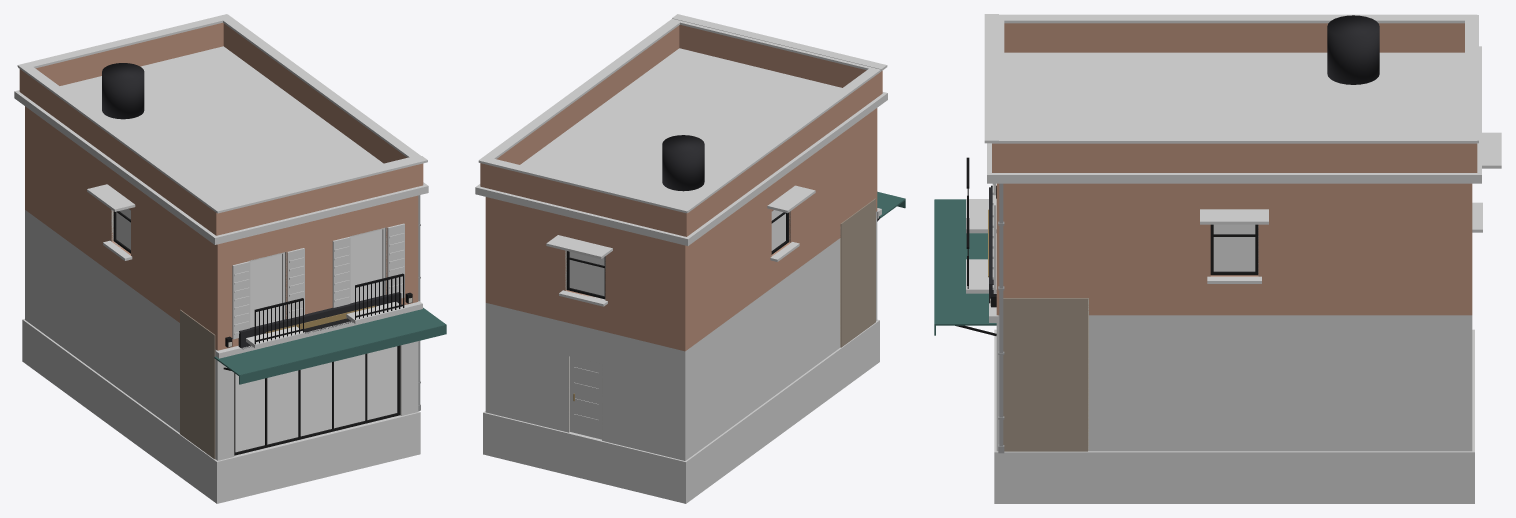
Rendered from shop_house_6x10_2.glb.
3 views of the same model, side by side, from view 1: azimuth 30°, elevation 25°; view 2: azimuth 150°, elevation 25°; view 3: azimuth 270°, elevation 25° (orthographic). The views are drawn at different scales.
Parts seen in each view (by area): view 1: shop_house_6x10_2; view 2: shop_house_6x10_2; view 3: shop_house_6x10_2.
Part boxes in pixels (bbox=[...]): shop_house_6x10_2: bbox=[14, 14, 446, 503]; shop_house_6x10_2: bbox=[475, 14, 905, 503]; shop_house_6x10_2: bbox=[934, 14, 1501, 503].
Size of the model in its own units: 7.22 by 8.95 by 11.91.
